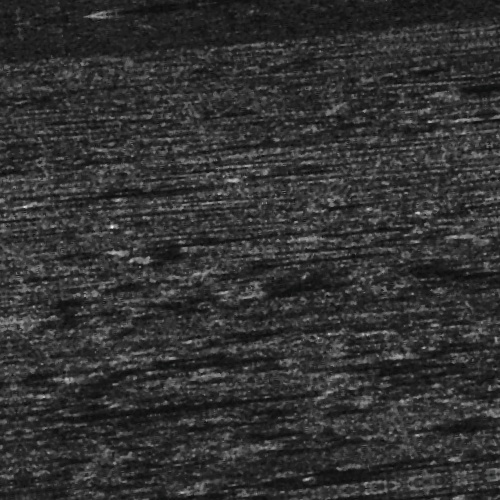object: (451, 251, 500, 260), (0, 390, 48, 399), (170, 264, 243, 269), (110, 232, 163, 237), (462, 137, 500, 142), (294, 478, 315, 483), (110, 0, 151, 2)
shadow: (6, 390, 248, 399), (137, 232, 348, 237), (207, 264, 365, 269), (131, 0, 500, 2), (44, 178, 145, 181), (305, 478, 356, 483)
